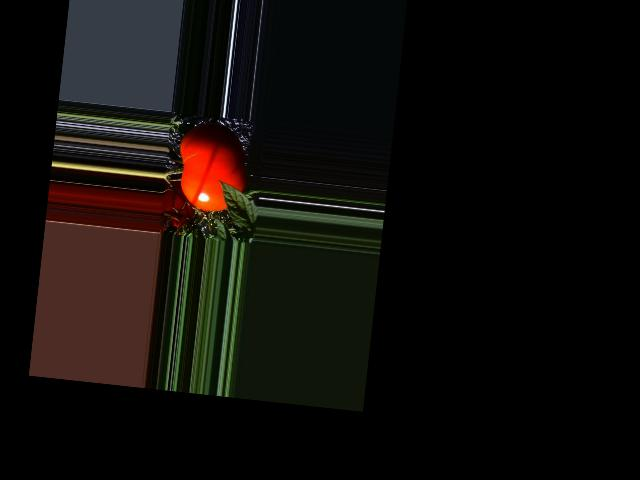tomato: (173, 120, 252, 215)
